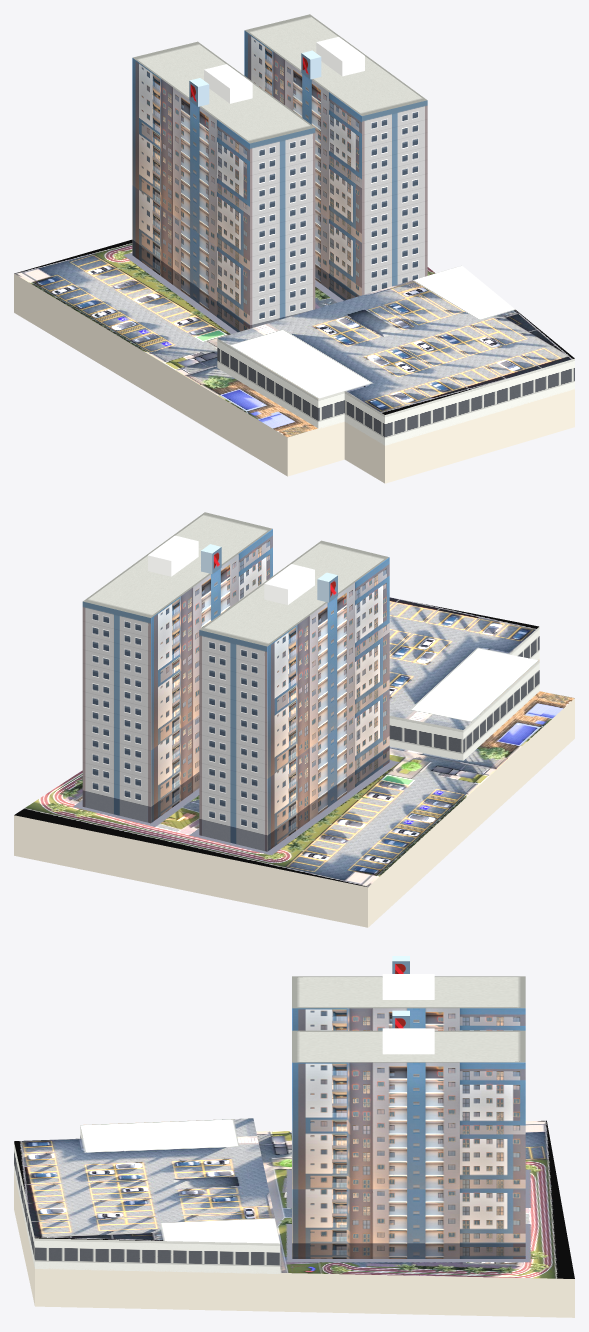
File: easy-rota-maquete-r73.glb
The picture shows the model from 3 angles, top to bottom: view 1: azimuth 30°, elevation 25°; view 2: azimuth 150°, elevation 25°; view 3: azimuth 270°, elevation 25°; orthographic projection. The views are drawn at different scales.
Visible parts, largest first — view 1: easy-rota-do-mar; view 2: easy-rota-do-mar; view 3: easy-rota-do-mar.
Part boxes in pixels (x1,y1,x2,y2): easy-rota-do-mar: (14,14,574,483); easy-rota-do-mar: (14,512,574,927); easy-rota-do-mar: (14,956,574,1317).
Bounding box in the file's own units: 72.25 × 54.2 × 108.
Materials: 9 (6 with a texture image).
